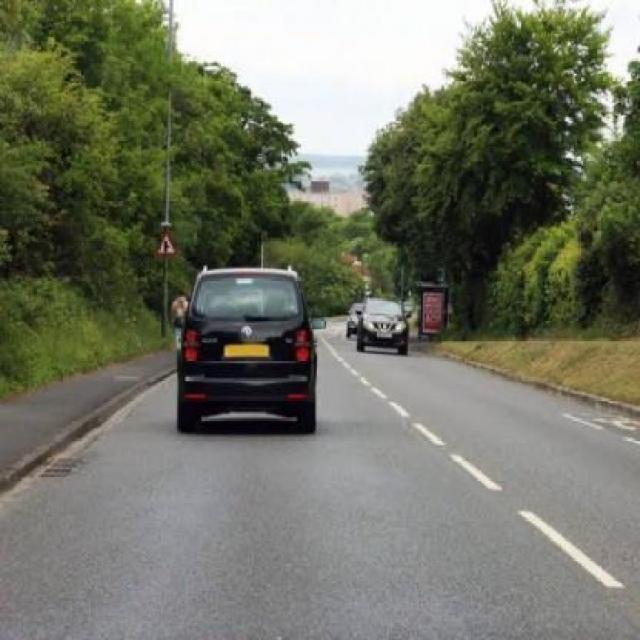vehicle: (172, 257, 322, 428), (358, 291, 412, 351)
